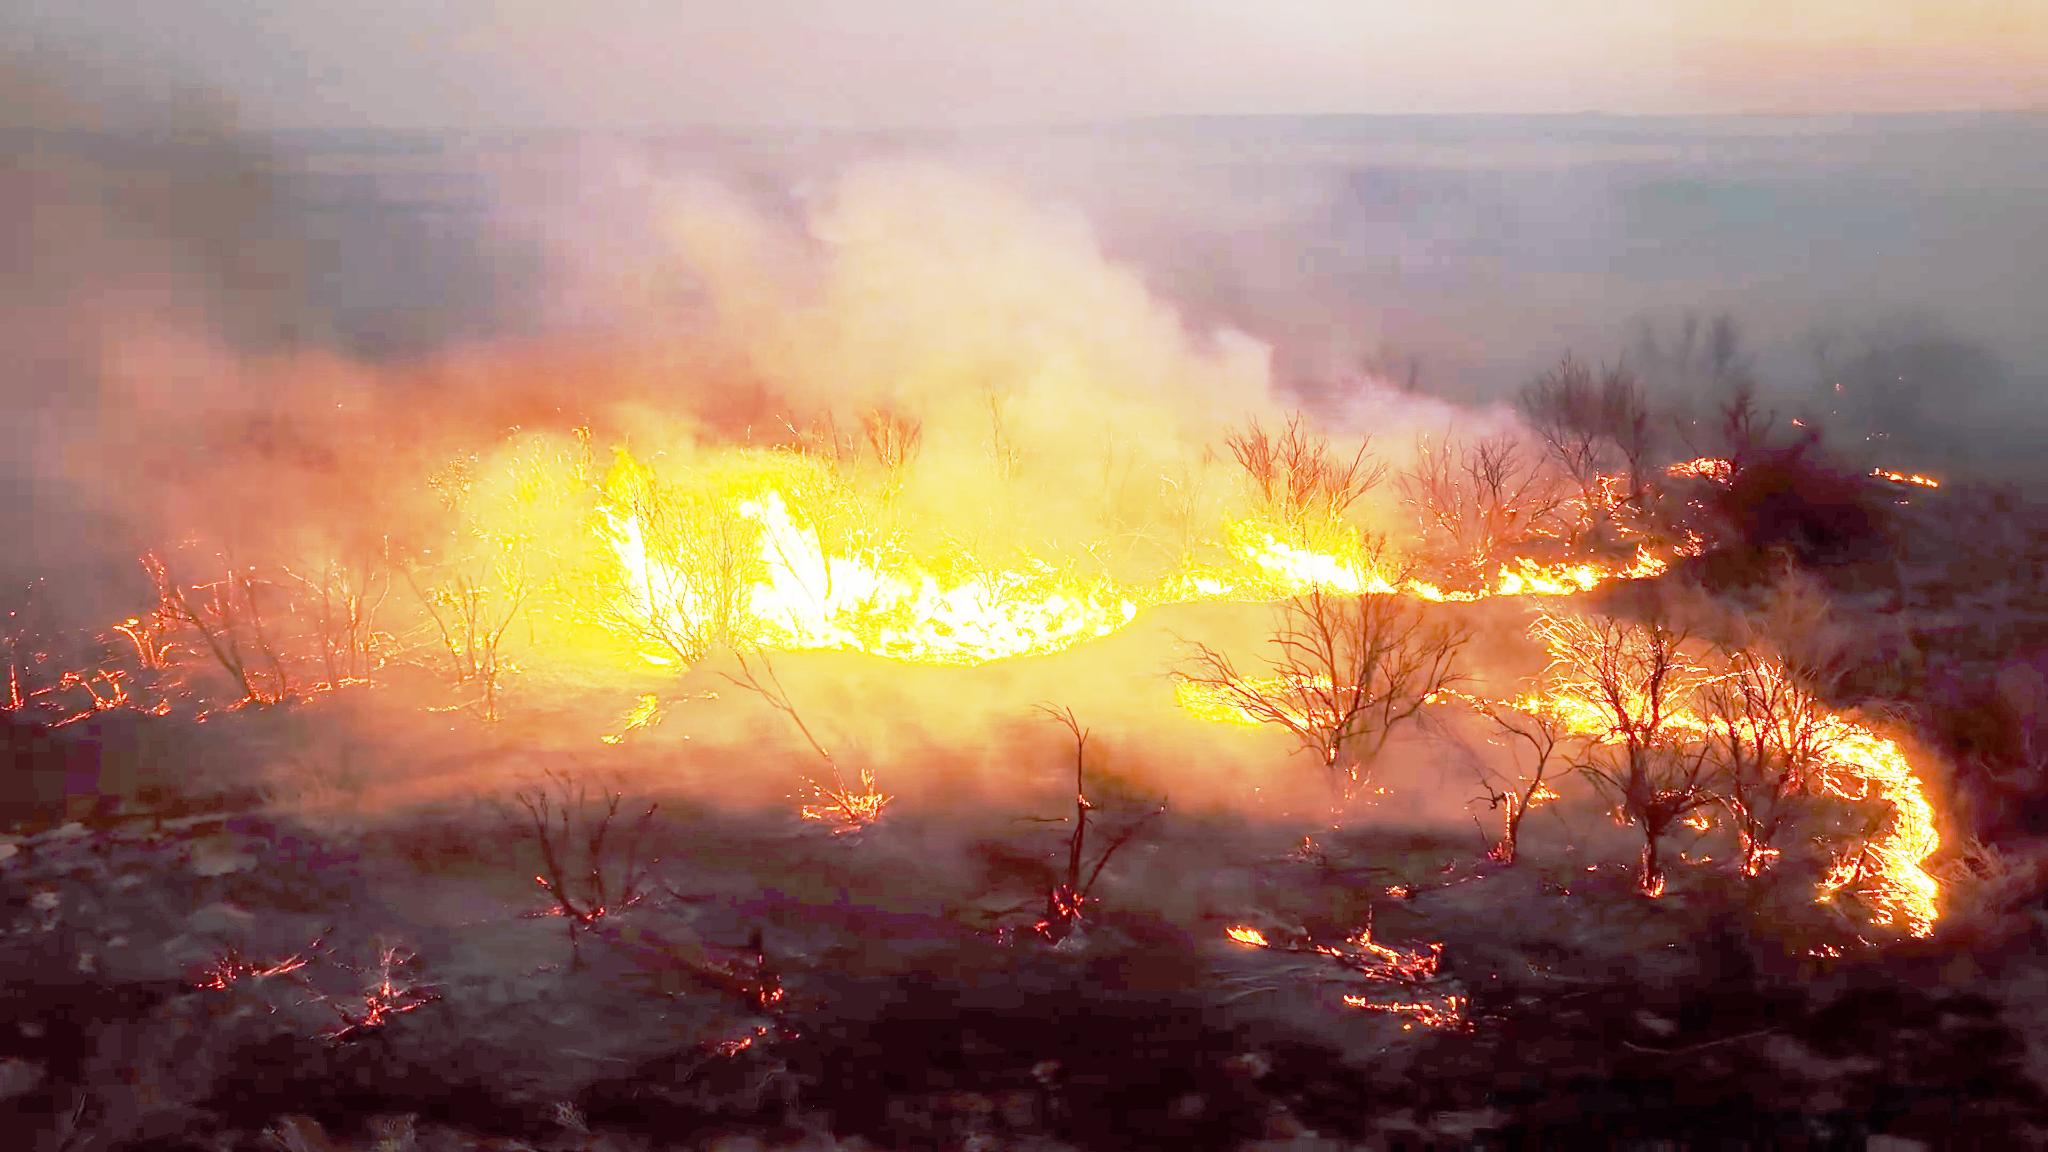fire: (601, 473, 1142, 653), (1158, 494, 1394, 610)
smoke: (702, 103, 1210, 494), (0, 42, 392, 544)
